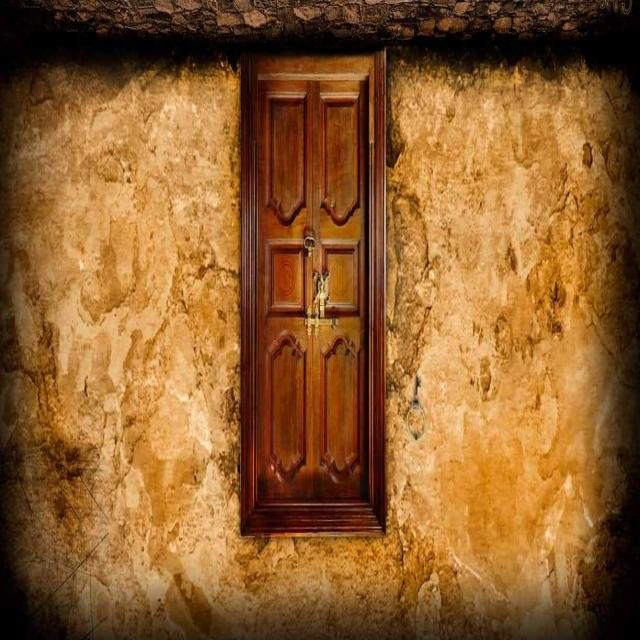close: (250, 39, 380, 518)
